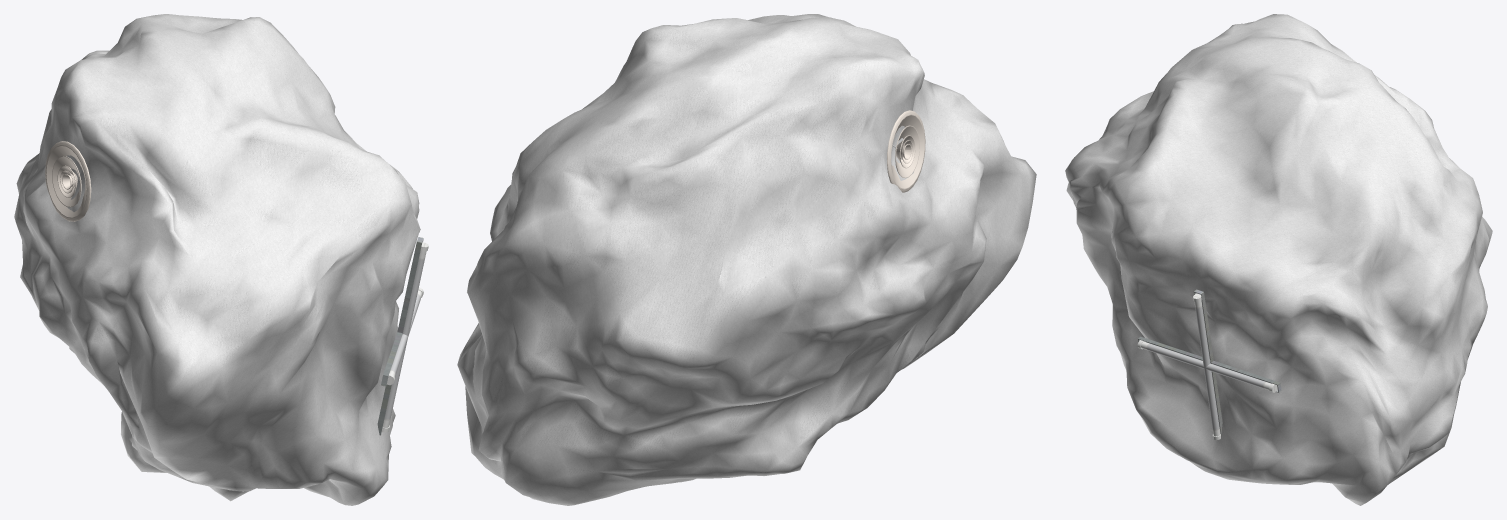
3 renders of one model, left to right at view 1: azimuth 30°, elevation 25°; view 2: azimuth 150°, elevation 25°; view 3: azimuth 270°, elevation 25°, orthographic. The views are drawn at different scales.
Parts seen in each view (by area): view 1: skp406B, object 11, object 2, object 4, object 16, object 12; view 2: skp406B, object 11; view 3: skp406B, object 2, object 6, object 8, object 4.
Part boxes in pixels (left/top/right/bottom): skp406B: left=14, top=14, right=420, bottom=505; object 11: left=45, top=141, right=91, bottom=221; object 2: left=382, top=251, right=426, bottom=427; object 4: left=377, top=237, right=423, bottom=435; object 16: left=52, top=156, right=81, bottom=207; object 12: left=57, top=165, right=77, bottom=197; skp406B: left=457, top=14, right=1036, bottom=505; object 11: left=887, top=110, right=925, bottom=192; skp406B: left=1065, top=14, right=1492, bottom=505; object 2: left=1194, top=300, right=1220, bottom=436; object 6: left=1141, top=341, right=1271, bottom=390; object 8: left=1138, top=336, right=1281, bottom=392; object 4: left=1194, top=289, right=1222, bottom=435.
Bounding box in the file's own units: 1.5 × 1.72 × 1.73.
5 materials, 3 textured.
